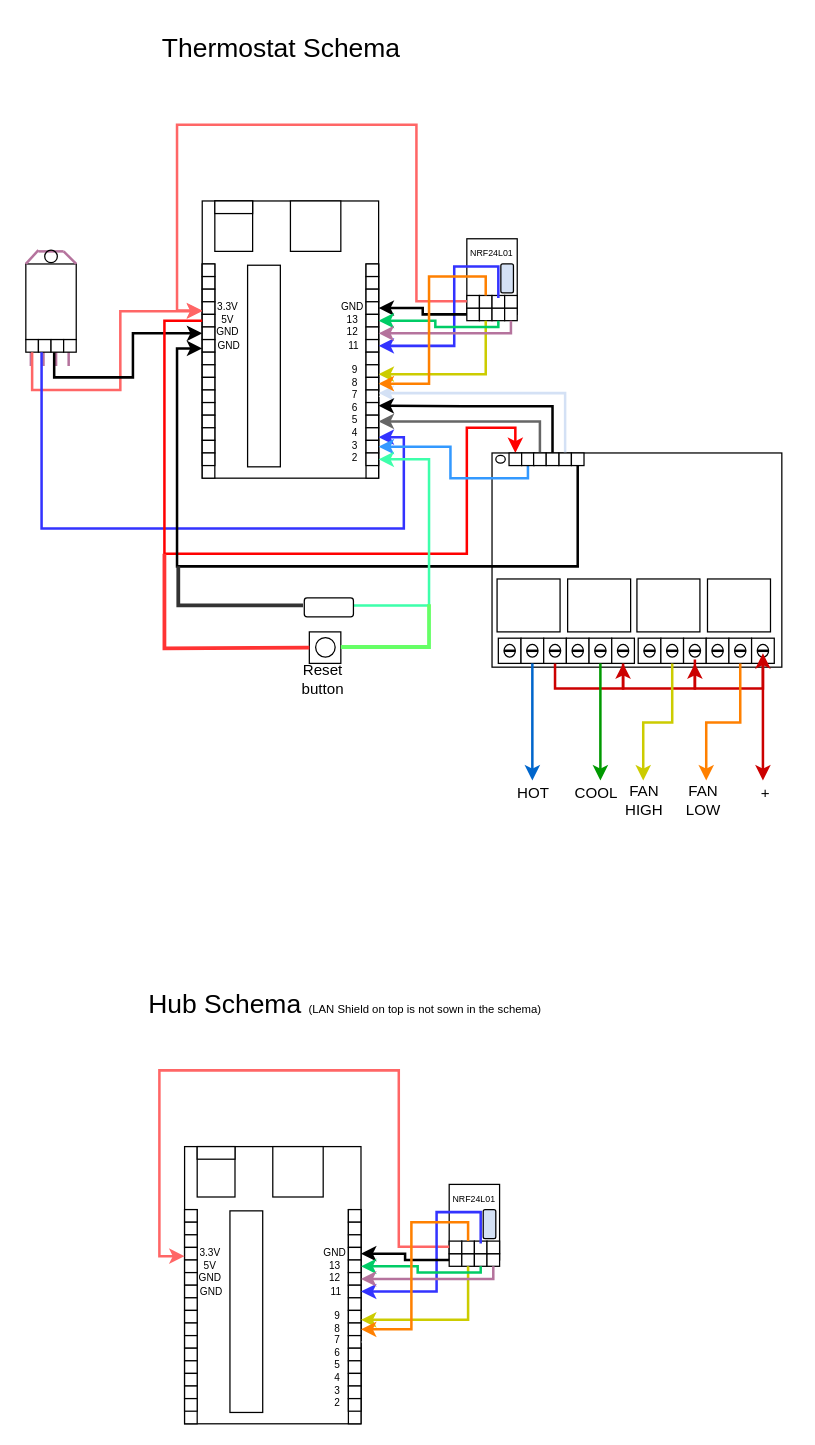
Some shapes in this 815 by 1445 pixel diagram are drawn without their labels. The box of each missing label's shape, as (x1, y1, x2, y2) in pixels:
10 Ω: (303, 597, 353, 617)
DHT22: (25, 263, 76, 340)
